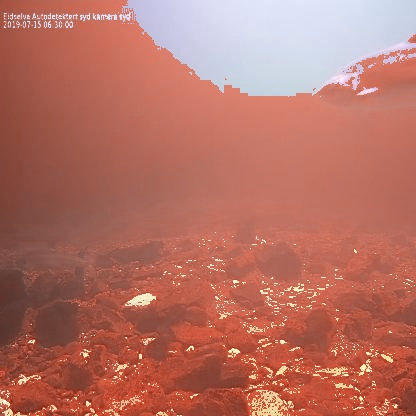salmon: (314, 28, 416, 117), (12, 239, 100, 284)
